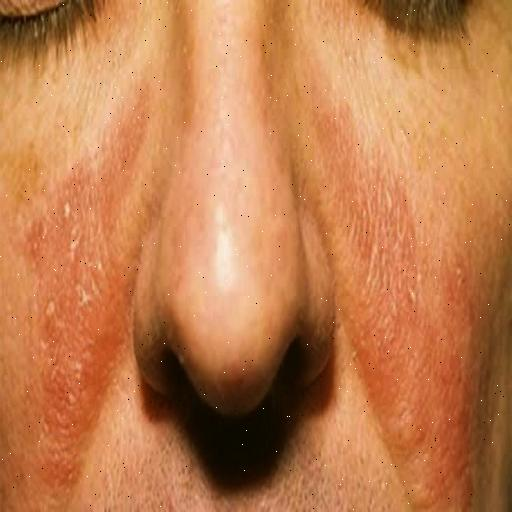Skin_Lesion: (18, 280, 108, 454), (396, 354, 442, 450), (372, 200, 405, 316), (60, 182, 98, 250), (435, 258, 471, 316), (19, 221, 45, 267)
